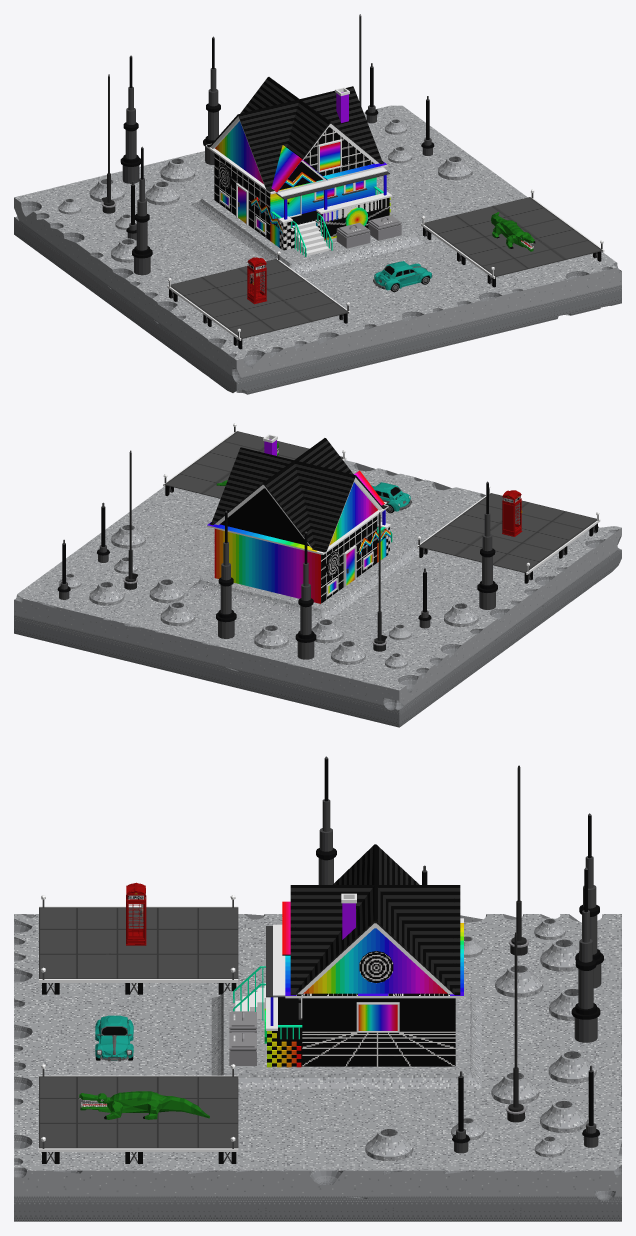
3 renders of one model, top to bottom at view 1: azimuth 30°, elevation 25°; view 2: azimuth 150°, elevation 25°; view 3: azimuth 270°, elevation 25°, orthographic. The views are drawn at different scales.
Visible parts, largest first — view 1: Cube.027, Cube.1320, Cube.025, Cube.026, Cube.028, Cylinder.020, Cylinder.021, VEHICLES_VOLKSWAGEN, Cylinder.017, OBJRANDOM_PHONEBOOTH, ANIMAL_COCODRILO, Cube.029 (+5 smaller); view 2: Cube.027, Cube.1320, Cube.025, Cube.028, Cube.026, Cylinder.020, Cylinder.021, Cylinder.017, OBJRANDOM_PHONEBOOTH, VEHICLES_VOLKSWAGEN, Cylinder.031, Cylinder.028 (+8 smaller); view 3: Cube.027, Cube.1320, Cube.025, Cube.026, Cube.028, Cylinder.017, ANIMAL_COCODRILO, VEHICLES_VOLKSWAGEN, Cylinder.020, Cylinder.021, OBJRANDOM_PHONEBOOTH, Cylinder.033 (+11 smaller).
Part boxes in pixels (x1,y1,x2,y2): Cube.027: (14,105,621,394); Cube.1320: (205,77,392,256); Cube.025: (167,251,350,349); Cube.026: (421,189,604,287); Cube.028: (191,195,424,274); Cylinder.020: (120,55,140,183); Cylinder.021: (132,146,152,275); VEHICLES_VOLKSWAGEN: (373,261,432,292); Cylinder.017: (203,36,220,164); OBJRANDOM_PHONEBOOTH: (247,257,266,304); ANIMAL_COCODRILO: (491,212,535,251); Cube.029: (336,222,370,248); Cube.027: (14,460,621,727); Cube.1320: (207,434,392,603); Cube.025: (417,485,600,583); Cube.028: (190,538,419,620); Cube.026: (163,423,346,498); Cylinder.020: (295,531,316,659); Cylinder.021: (477,481,497,609); Cylinder.017: (216,510,236,638); OBJRANDOM_PHONEBOOTH: (502,490,522,536); VEHICLES_VOLKSWAGEN: (371,482,411,513); Cylinder.031: (89,581,124,605); Cylinder.028: (331,640,365,664); Cube.027: (14,914,621,1221); Cube.1320: (233,844,463,1067); Cube.025: (39,895,238,994); Cube.026: (39,1064,238,1163); Cube.028: (211,991,481,1088); Cylinder.017: (571,867,600,1042); ANIMAL_COCODRILO: (79,1091,209,1119); VEHICLES_VOLKSWAGEN: (95,1015,133,1061); Cylinder.020: (575,813,603,988); Cylinder.021: (316,756,336,884); OBJRANDOM_PHONEBOOTH: (126,882,146,945); Cylinder.033: (365,1128,413,1160).
Size of the model in its own units: 4000 by 1951 by 4000.
39 materials, 6 textured.
